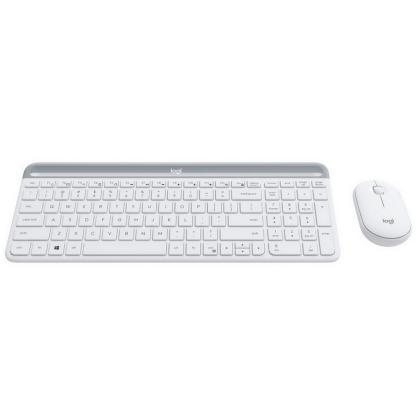keyboard: (3, 161, 344, 265)
